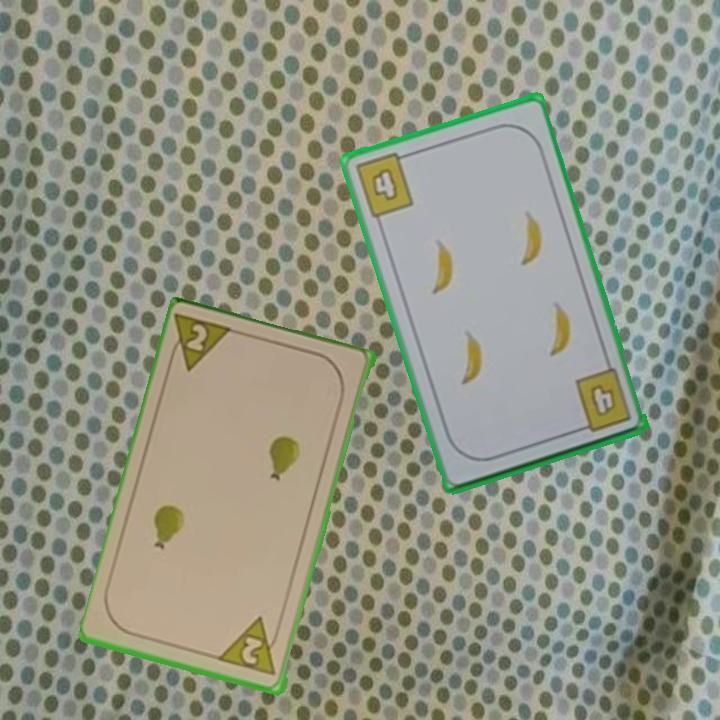2p: (164, 310, 239, 376), (217, 614, 282, 679)
4b: (351, 148, 417, 221), (571, 365, 635, 436)
